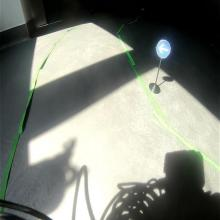left: (156, 37, 171, 60)
